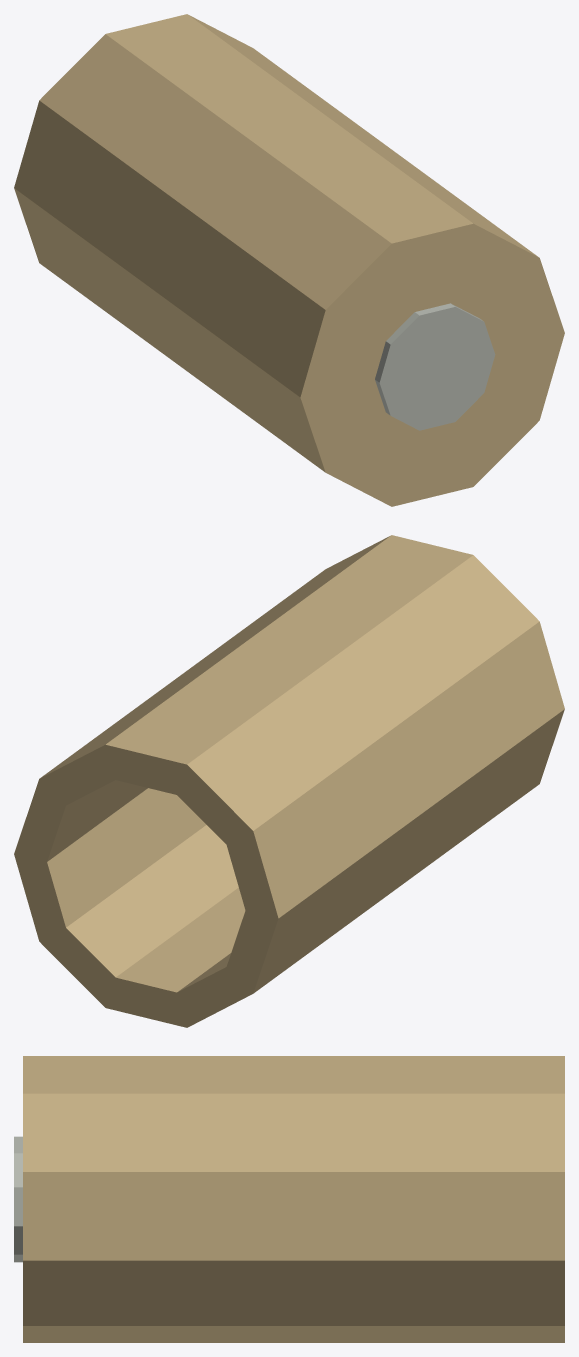
The model's file is Casing.fbx.
The picture shows the model from 3 angles, top to bottom: view 1: azimuth 30°, elevation 25°; view 2: azimuth 150°, elevation 25°; view 3: azimuth 270°, elevation 25°; orthographic projection. The views are drawn at different scales.
Visible parts, largest first — view 1: Body__Brass.001, Body__WornSteel.002; view 2: Body__Brass.001; view 3: Body__Brass.001, Body__WornSteel.002.
Boxes of the visible parts, x1,y1,x2,y2 form: Body__Brass.001: (14, 14, 564, 506); Body__WornSteel.002: (375, 303, 495, 430); Body__Brass.001: (14, 535, 564, 1027); Body__Brass.001: (23, 1056, 564, 1342); Body__WornSteel.002: (14, 1136, 22, 1262).
Bounding box in the file's own units: 0.0096 × 0.00913 × 0.0183.
